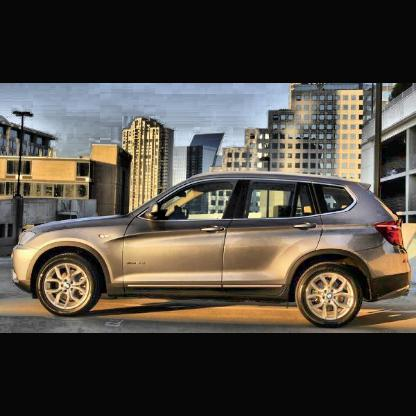BMW X3 SUV 2012: (10, 168, 412, 328)
